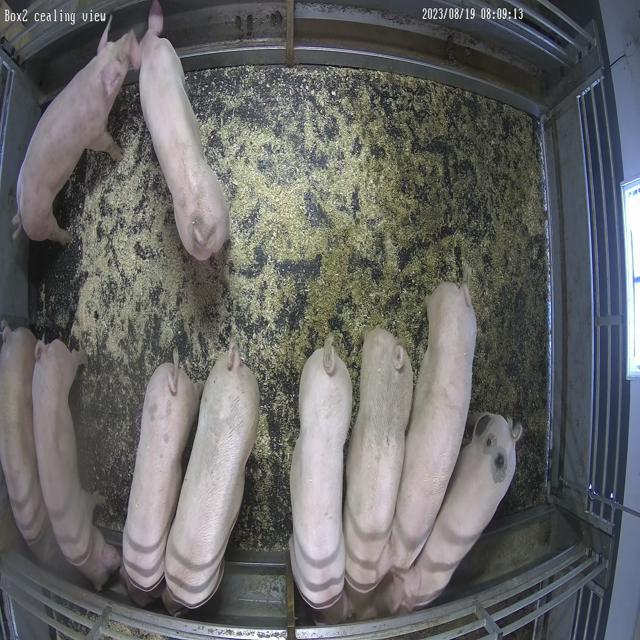Dirt: (356, 71, 548, 513)
Pig: (389, 414, 523, 614), (14, 30, 139, 244), (391, 283, 477, 570), (166, 344, 258, 610), (140, 0, 228, 260), (32, 340, 121, 592), (121, 363, 202, 600), (344, 328, 414, 594), (290, 339, 353, 612), (0, 328, 49, 546)
